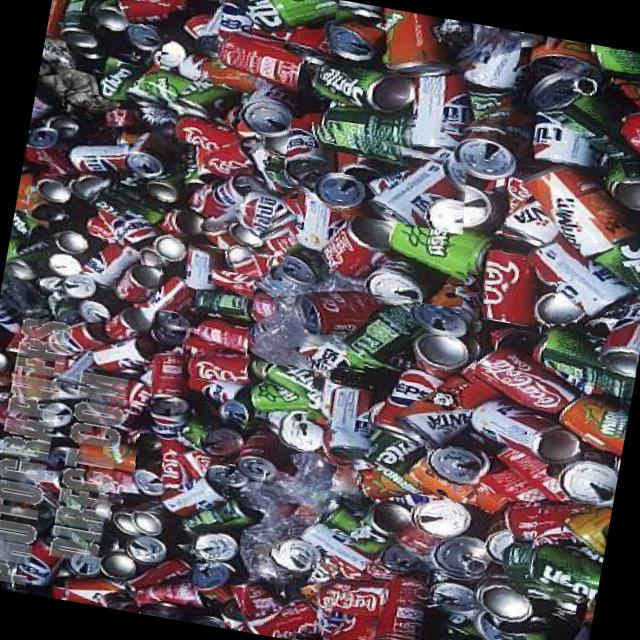Cans: (310, 0, 523, 147), (270, 112, 480, 234), (481, 195, 620, 338), (161, 328, 317, 439), (430, 315, 569, 438), (306, 208, 474, 308), (403, 478, 540, 588), (356, 294, 488, 408), (196, 0, 372, 85), (95, 503, 228, 612), (542, 43, 640, 188), (540, 253, 640, 395), (240, 278, 378, 378), (18, 168, 136, 277), (180, 66, 298, 174), (130, 270, 256, 366), (163, 193, 293, 280), (52, 88, 167, 177), (255, 488, 392, 562), (240, 542, 345, 638), (128, 422, 238, 512), (62, 241, 163, 331), (395, 415, 489, 504), (466, 567, 580, 640), (278, 418, 379, 496), (75, 0, 171, 82), (530, 487, 604, 582), (350, 559, 436, 640), (504, 428, 579, 506), (572, 406, 628, 498)
